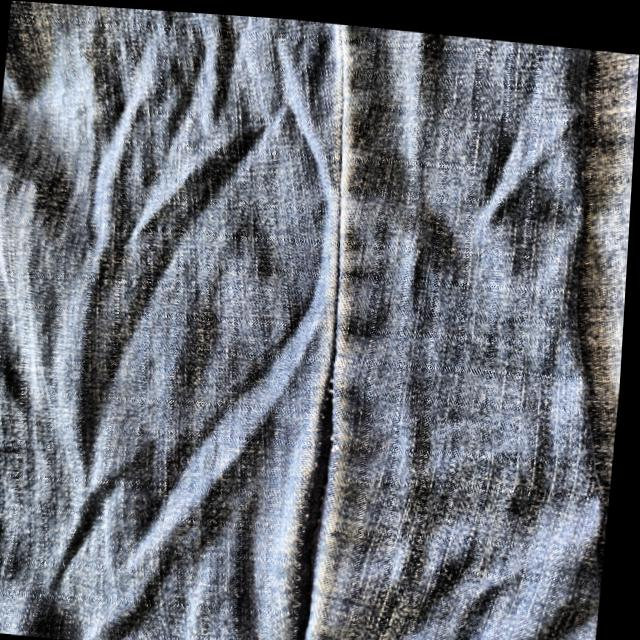seam: (272, 374, 363, 640)
